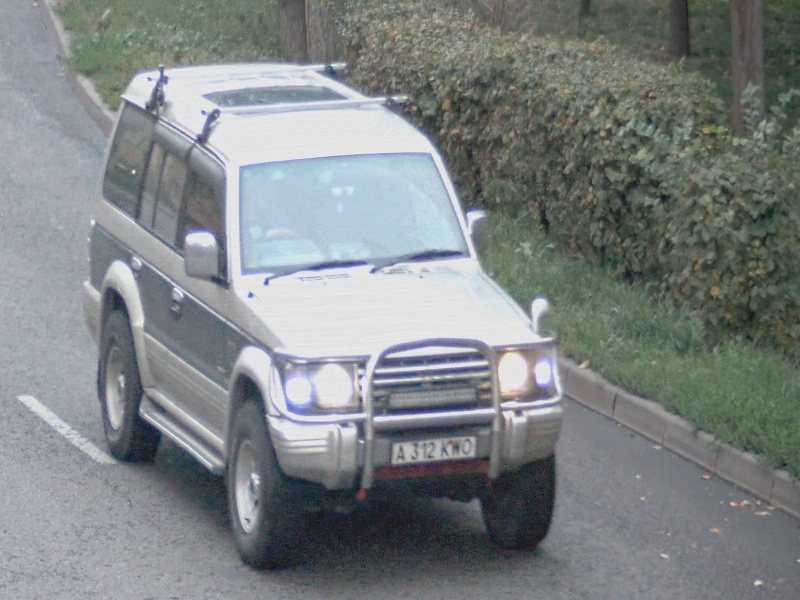plate: (390, 433, 479, 468)
